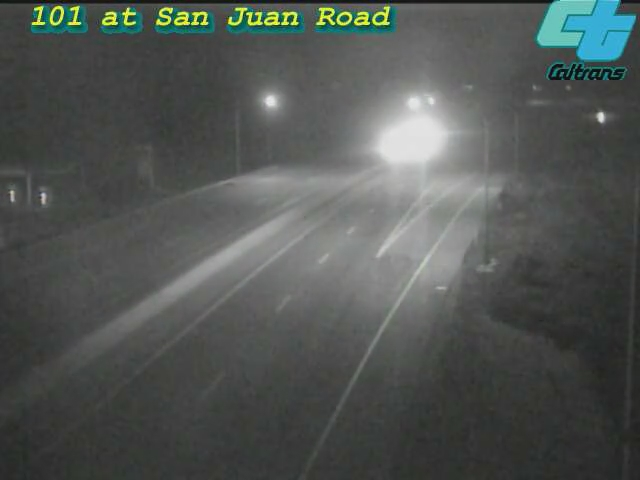vehicle: (575, 92, 625, 142), (364, 119, 414, 169), (391, 113, 441, 163)
